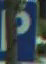Parking: (0, 3, 34, 62)
